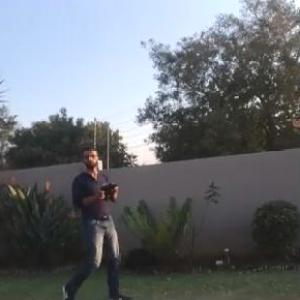follow: (58, 137, 140, 299)
